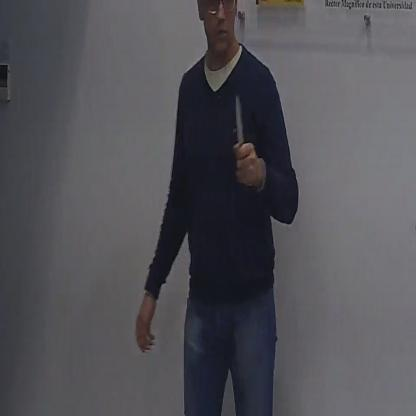knife: (230, 84, 254, 188)
